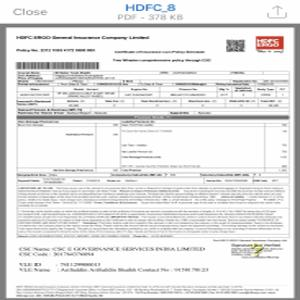image: (255, 35, 284, 51)
table: (16, 115, 289, 173), (16, 70, 290, 114)
text: (15, 33, 150, 42)
